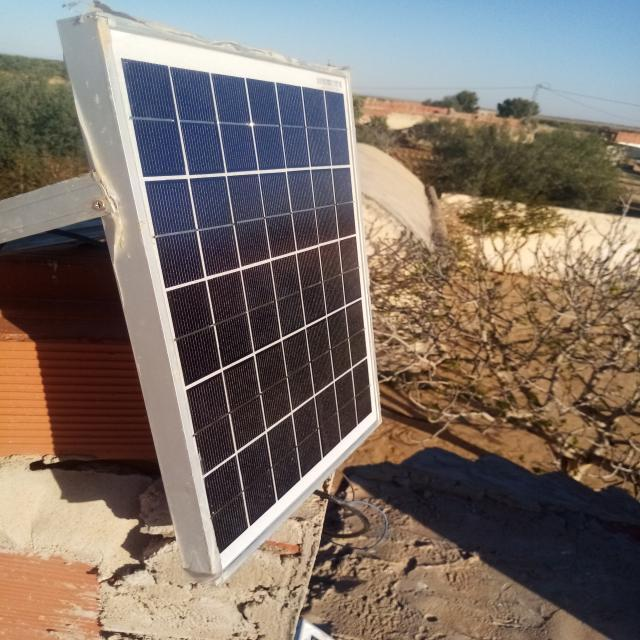no faulty: (96, 14, 386, 582)
